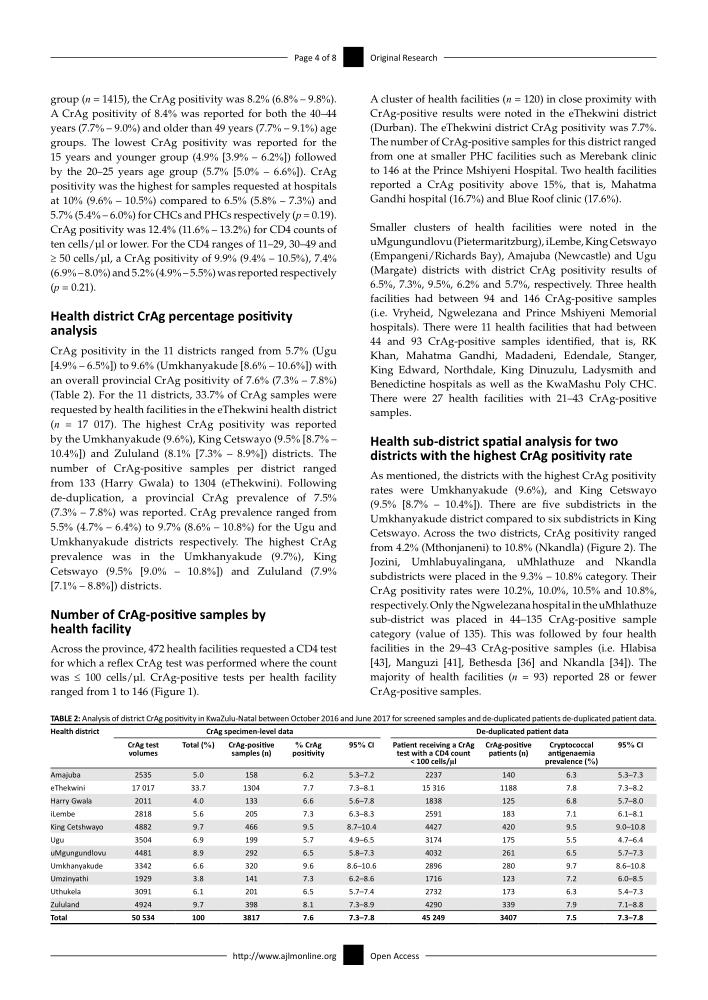table: (50, 726, 645, 922)
